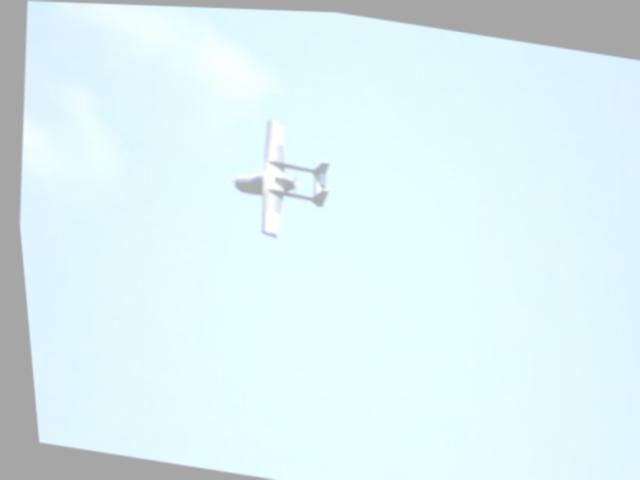uav: (213, 103, 340, 246)
